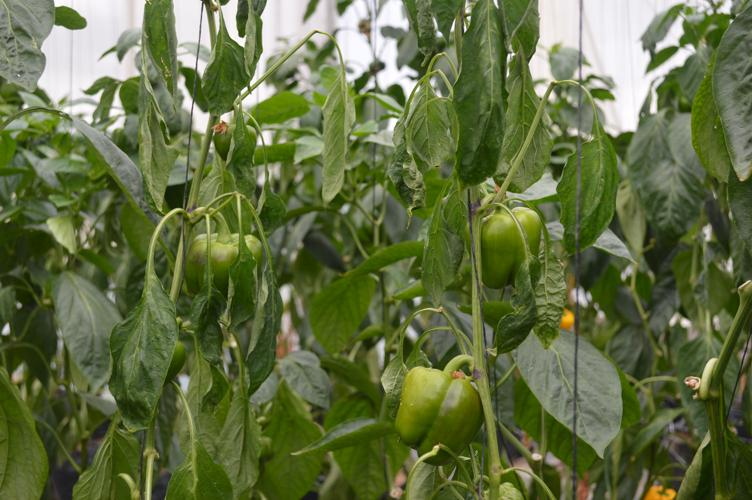BellPepper: (394, 356, 486, 474), (176, 219, 273, 303), (478, 212, 549, 294)
